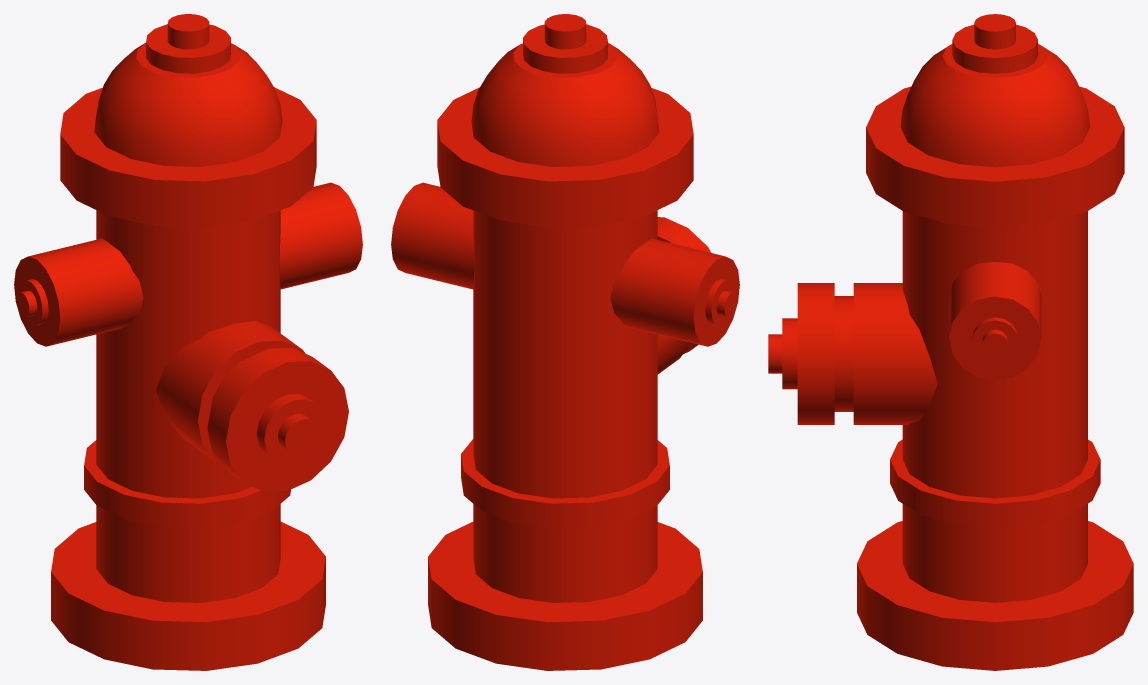
File: Hydrant.fbx
The picture shows the model from 3 angles, left to right: view 1: azimuth 30°, elevation 25°; view 2: azimuth 150°, elevation 25°; view 3: azimuth 270°, elevation 25°; orthographic projection.
Visible parts, largest first — view 1: Hydrant; view 2: Hydrant; view 3: Hydrant.
Part boxes in pixels (x1,y1,x2,y2): Hydrant: [14, 14, 362, 670]; Hydrant: [391, 14, 739, 670]; Hydrant: [768, 14, 1133, 670].
Bounding box in the file's own units: 64.9 × 111 × 62.14.
